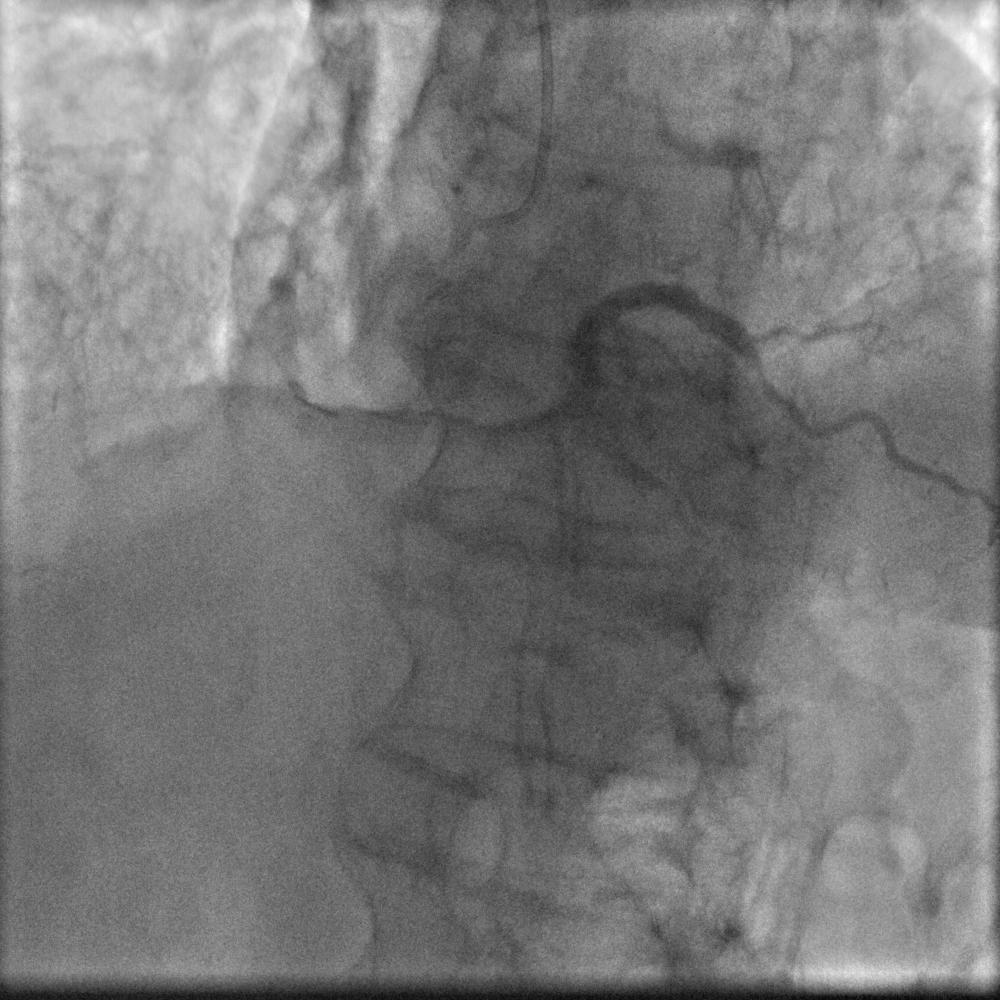Stenosis: (733, 325, 771, 400)
